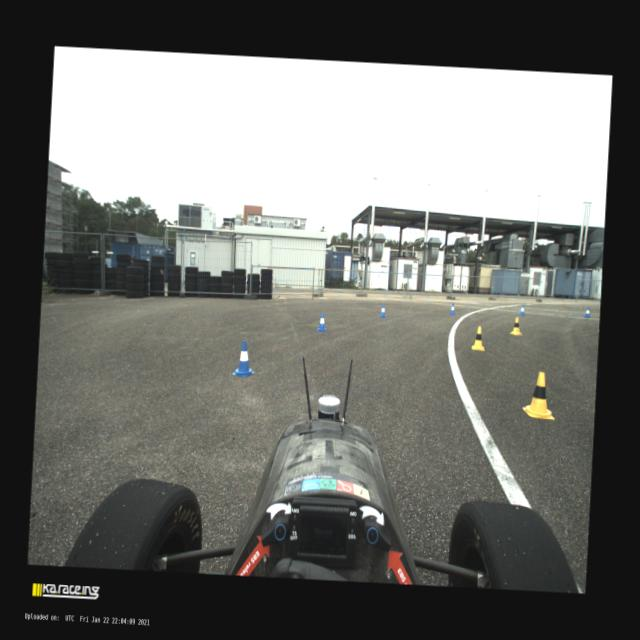blue_cone: (232, 340, 256, 378), (316, 312, 328, 332), (378, 304, 388, 318), (584, 306, 592, 318), (449, 304, 456, 316), (519, 304, 526, 316)
yellow_cone: (522, 372, 558, 419), (471, 326, 486, 351), (509, 317, 524, 336)
